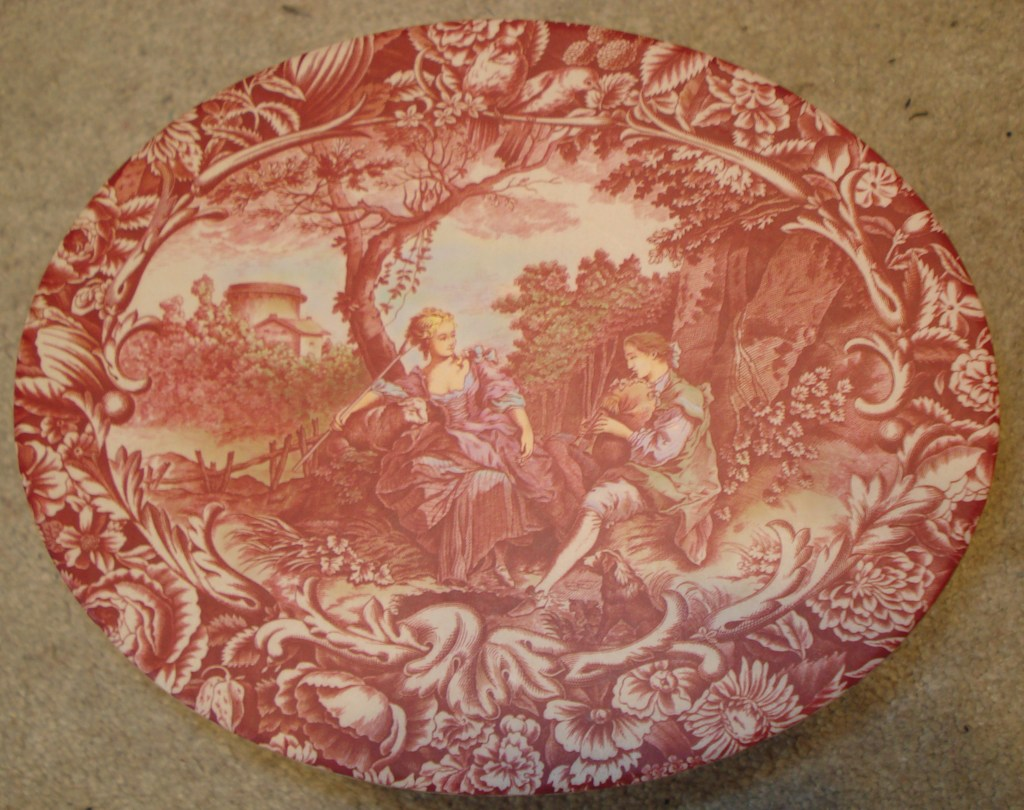plate: (68, 28, 983, 781)
